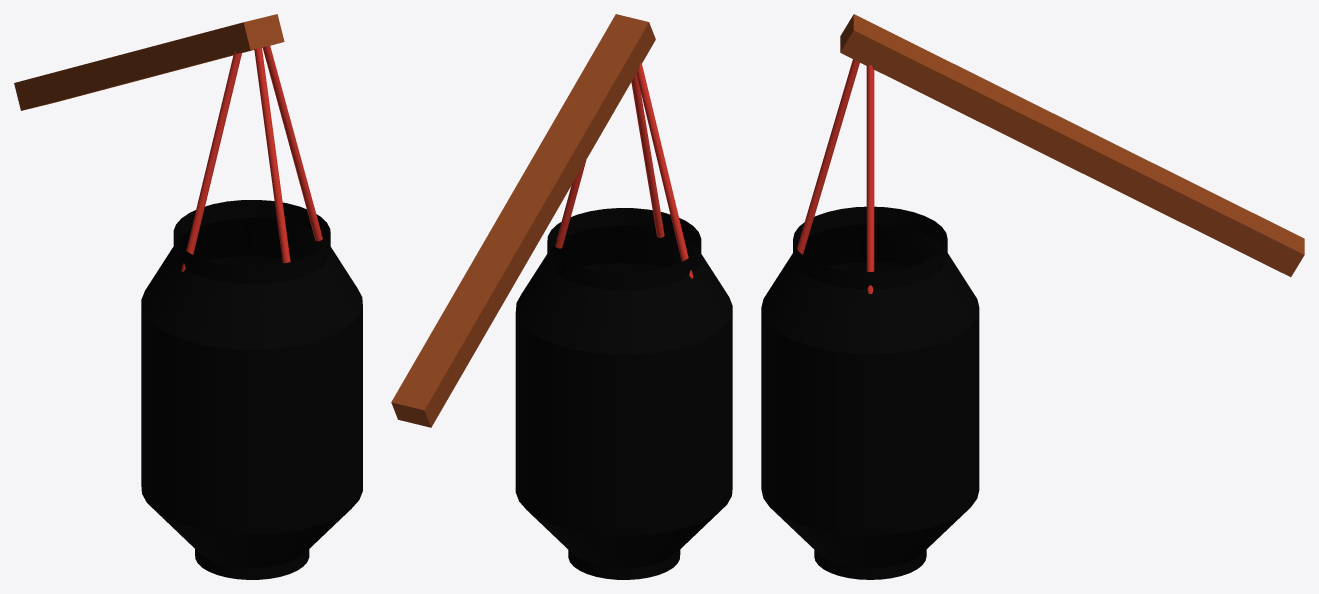
Rendered from Light.fbx.
3 renders of one model, left to right at view 1: azimuth 30°, elevation 25°; view 2: azimuth 150°, elevation 25°; view 3: azimuth 270°, elevation 25°, orthographic. The views are drawn at different scales.
Parts seen in each view (by area): view 1: Cylinder, Cube, Cylinder.003, Cylinder.001, Cylinder.002; view 2: Cylinder, Cube, Cylinder.001, Cylinder.003, Cylinder.002; view 3: Cylinder, Cube, Cylinder.002, Cylinder.003.
Boxes of the visible parts, x1,y1,x2,y2 form: Cylinder: (141, 200, 362, 579); Cube: (14, 14, 284, 110); Cylinder.003: (254, 47, 290, 263); Cylinder.001: (181, 51, 241, 271); Cylinder.002: (262, 46, 322, 241); Cylinder: (515, 208, 732, 579); Cube: (391, 14, 655, 427); Cylinder.001: (636, 63, 693, 278); Cylinder.003: (631, 74, 664, 237); Cylinder.002: (555, 160, 586, 248); Cylinder: (761, 206, 979, 579); Cube: (840, 14, 1304, 276); Cylinder.002: (866, 65, 874, 293); Cylinder.003: (797, 59, 859, 254).
Size of the model in its own units: 401 by 1084 by 999.
